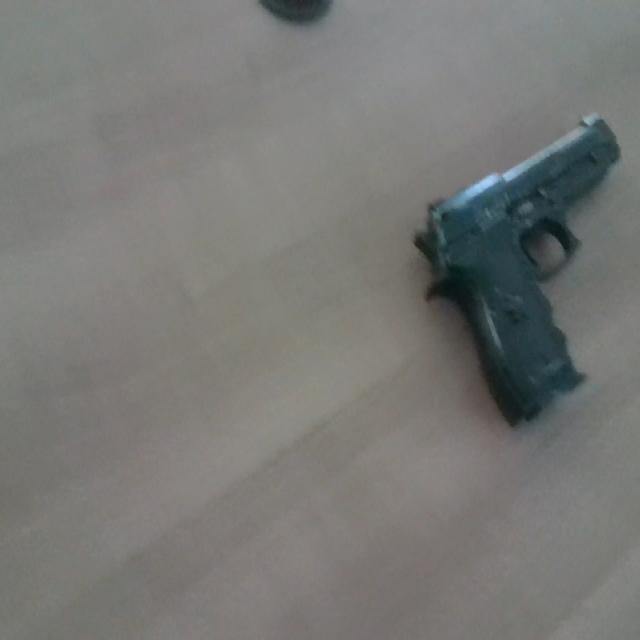handgun: (387, 99, 640, 518)
